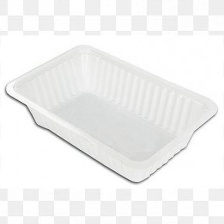plastic_box: (0, 39, 224, 187)
